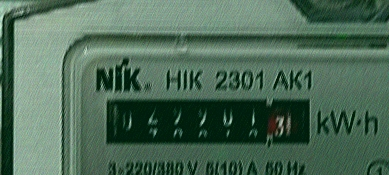0: (219, 102, 234, 127), (118, 108, 133, 130)
1: (246, 102, 258, 126)
2: (144, 103, 159, 125)
3: (271, 114, 286, 137)
9: (195, 104, 207, 127), (170, 103, 182, 124)
screen: (97, 91, 318, 153)
